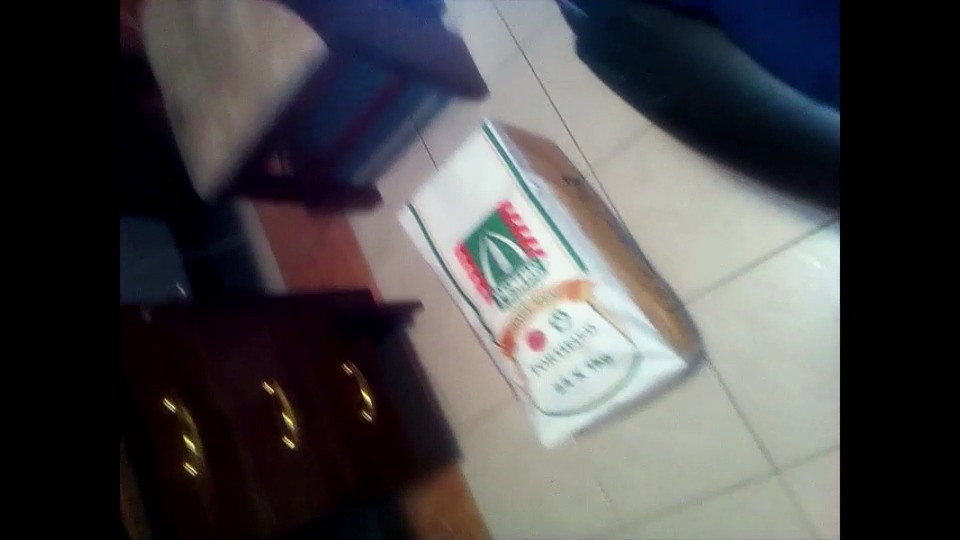maize_flour_green_label: (397, 127, 702, 434)
